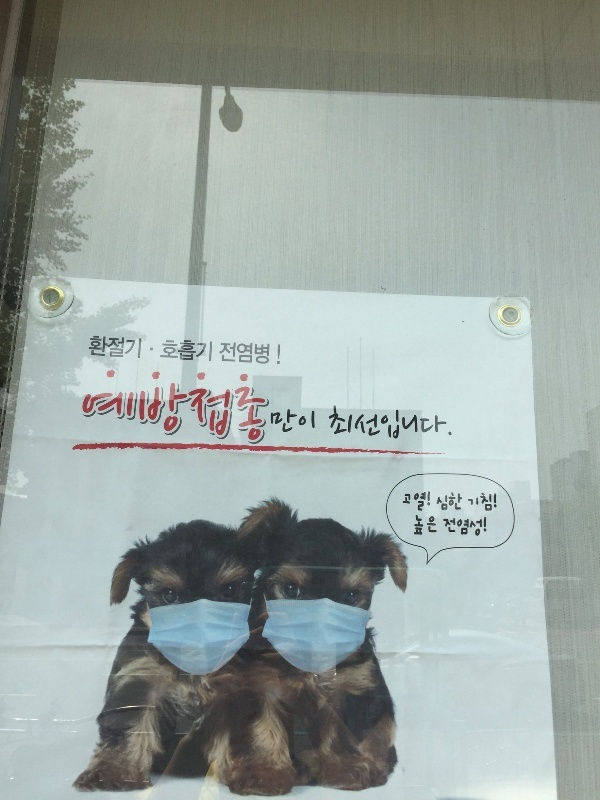text: (97, 364, 112, 447), (113, 364, 128, 447), (129, 364, 144, 447), (145, 364, 160, 447), (161, 364, 176, 447), (177, 364, 192, 447), (193, 364, 208, 447), (209, 364, 224, 447), (225, 364, 240, 447), (241, 364, 256, 447), (257, 364, 271, 447), (88, 364, 96, 447), (337, 399, 352, 442), (353, 399, 368, 442), (369, 399, 384, 442), (385, 399, 400, 442), (401, 399, 416, 442), (417, 399, 432, 442), (433, 399, 448, 442), (273, 406, 288, 437), (289, 406, 304, 437), (481, 487, 497, 514), (97, 335, 112, 361), (113, 335, 128, 361), (129, 335, 144, 361), (225, 341, 240, 367), (241, 341, 256, 367), (257, 341, 272, 367), (177, 339, 192, 364), (193, 339, 208, 364), (305, 406, 317, 437), (328, 399, 336, 442), (449, 516, 464, 538), (465, 516, 480, 538), (163, 339, 176, 364), (468, 487, 480, 514), (417, 515, 432, 536), (449, 490, 463, 512), (417, 491, 431, 512), (145, 335, 155, 361), (449, 399, 455, 442), (404, 491, 416, 512), (273, 341, 282, 367), (438, 490, 448, 512), (89, 335, 96, 361), (481, 516, 487, 538), (443, 516, 448, 538), (433, 515, 438, 536), (220, 341, 224, 367), (209, 339, 213, 364), (270, 406, 272, 437), (415, 515, 416, 536)
